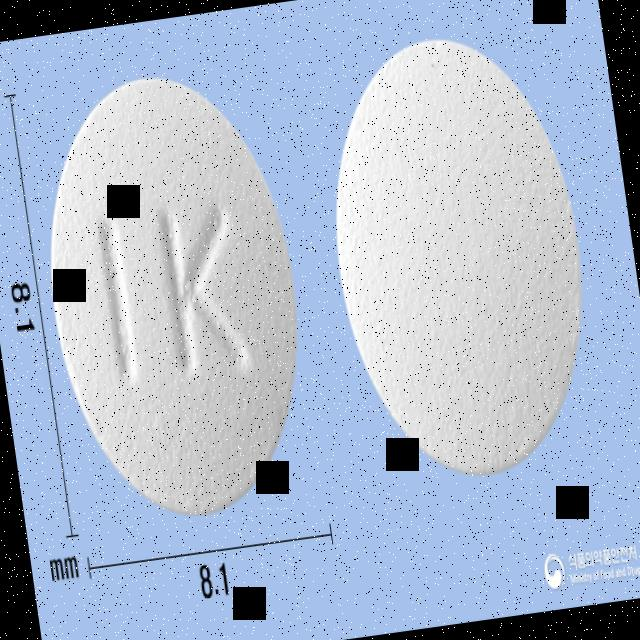Lesacra: (22, 56, 325, 532)
